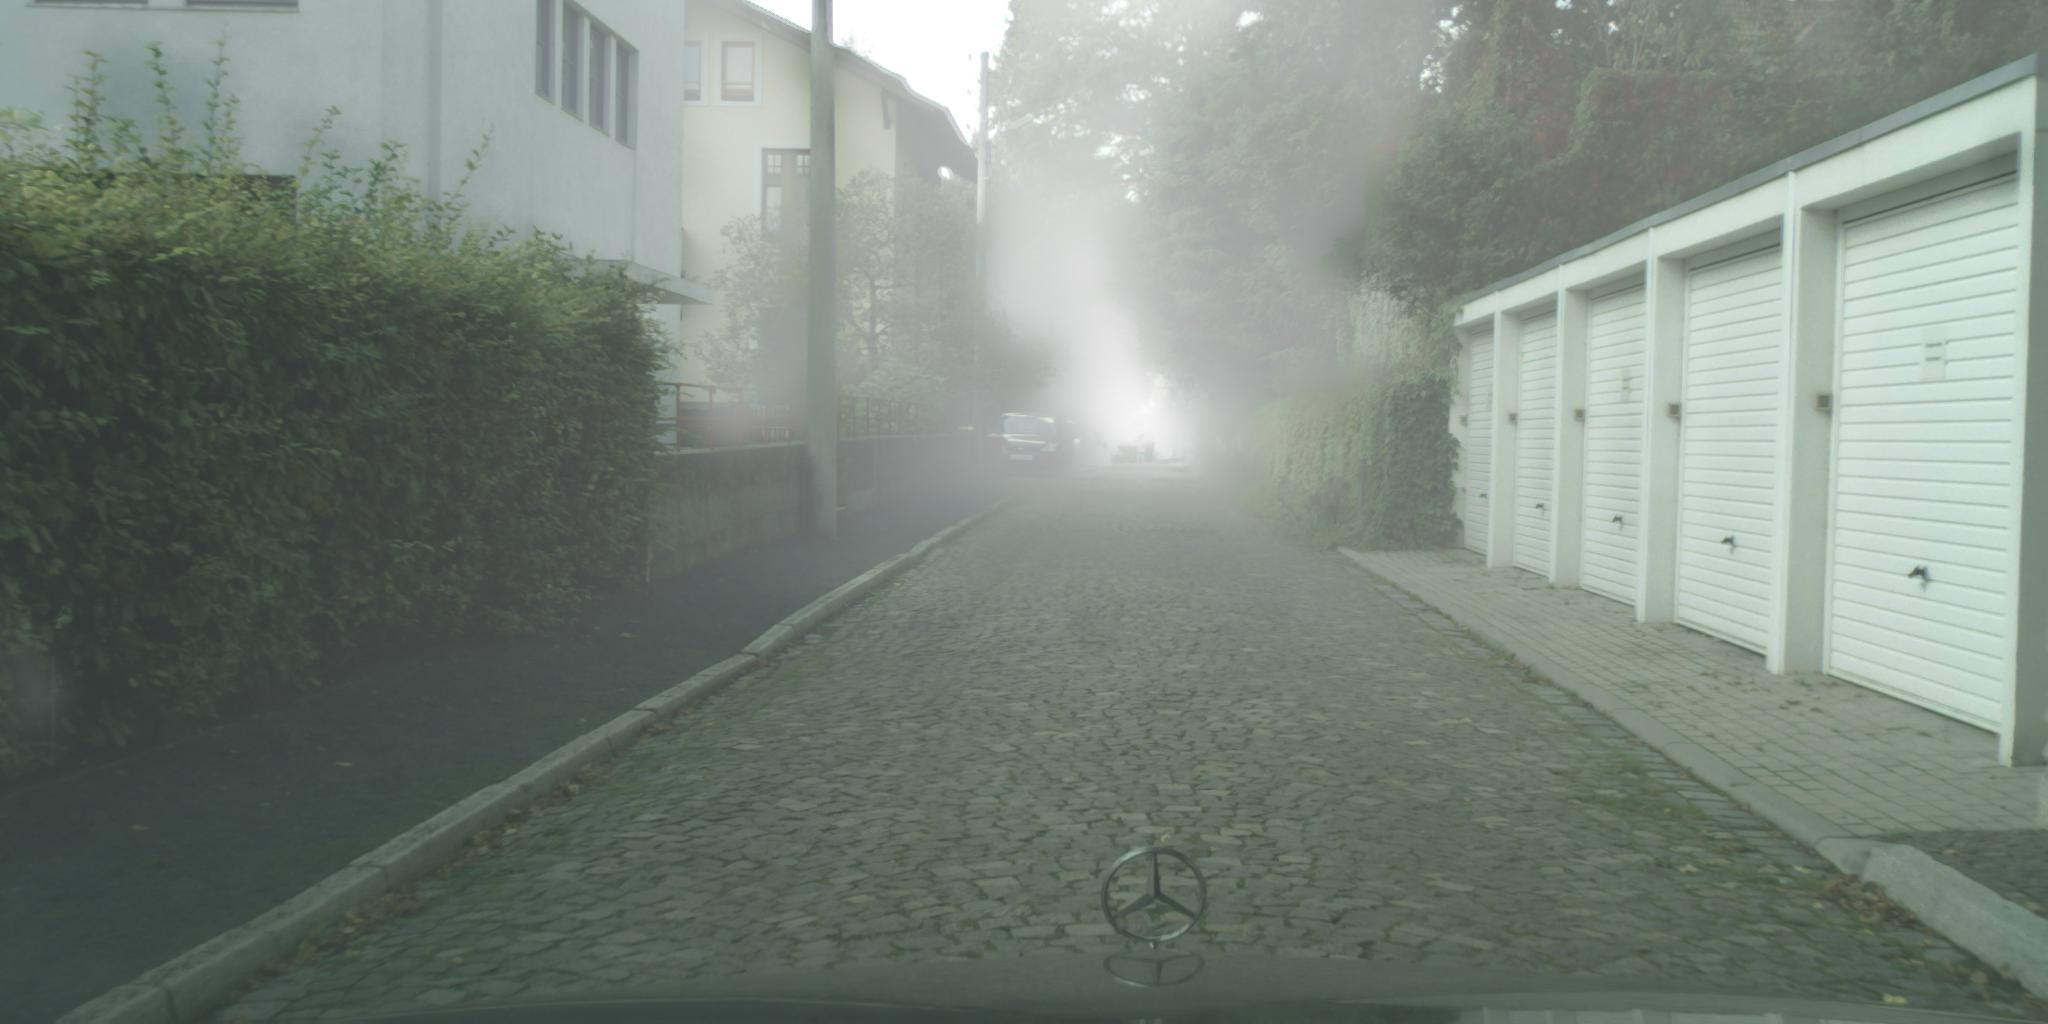car: (985, 411, 1074, 481), (1061, 417, 1091, 470)
